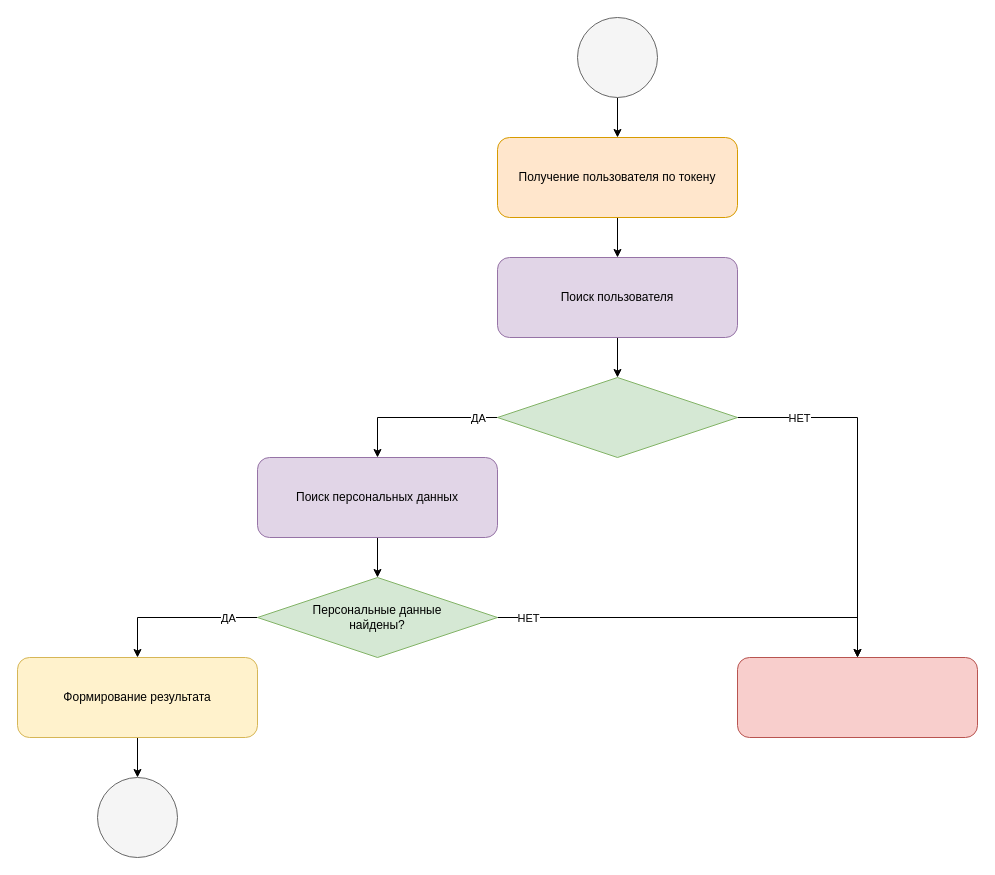
This 995x875 diagram has some shape labels left out. Each missing label, with the centre of its shape:
Исключение: the point at 857,697
Пользователь найден: the point at 617,417
